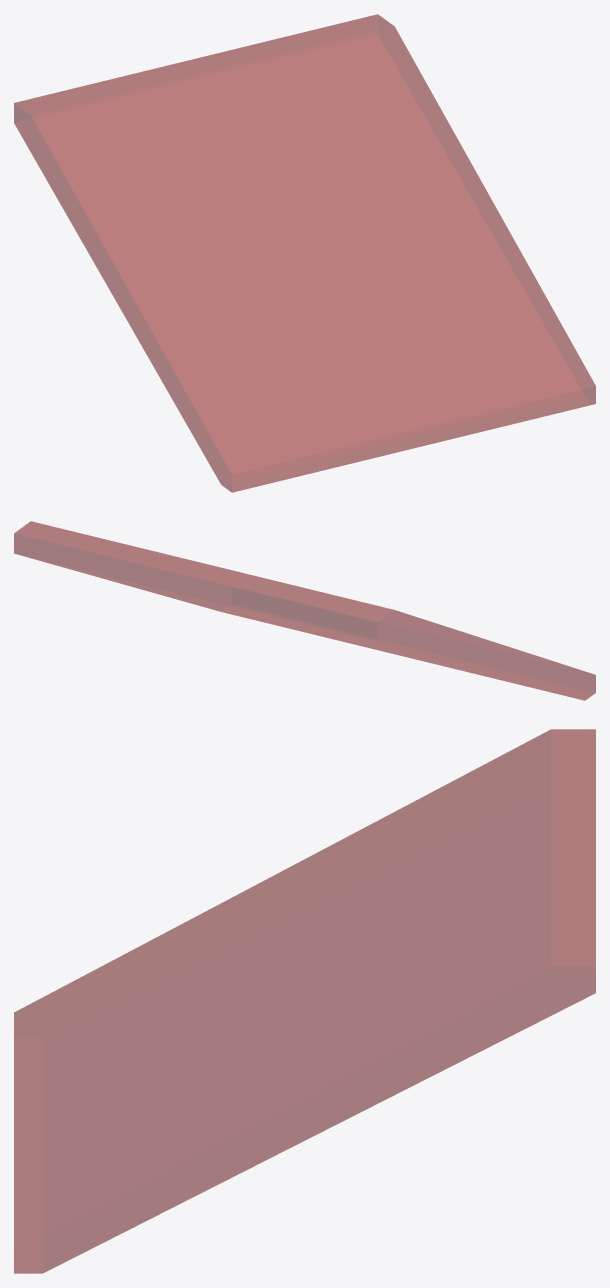
Rendered from SM_Bld_Base_Stairs_Ornate_02_Carpet_Collision.fbx.
The picture shows the model from 3 angles, top to bottom: view 1: azimuth 30°, elevation 25°; view 2: azimuth 150°, elevation 25°; view 3: azimuth 270°, elevation 25°; orthographic projection. The views are drawn at different scales.
Visible parts, largest first — view 1: SM_Bld_Base_Stairs_Ornate_02_Carpet_Collision; view 2: SM_Bld_Base_Stairs_Ornate_02_Carpet_Collision; view 3: SM_Bld_Base_Stairs_Ornate_02_Carpet_Collision.
Boxes of the visible parts, x1=… form: SM_Bld_Base_Stairs_Ornate_02_Carpet_Collision: x1=14, y1=14, x2=595, y2=492; SM_Bld_Base_Stairs_Ornate_02_Carpet_Collision: x1=14, y1=521, x2=595, y2=700; SM_Bld_Base_Stairs_Ornate_02_Carpet_Collision: x1=14, y1=729, x2=595, y2=1273.
Size of the model in its own units: 250 by 151 by 259.
